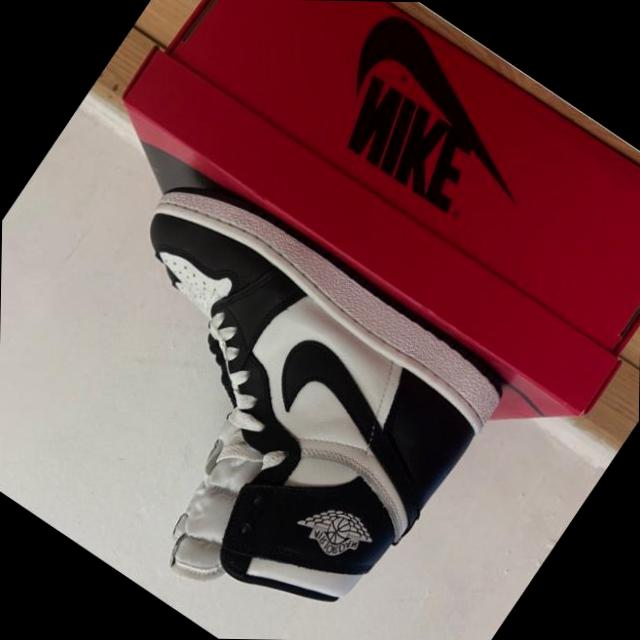nike_original_jordan: (1, 152, 524, 640)
